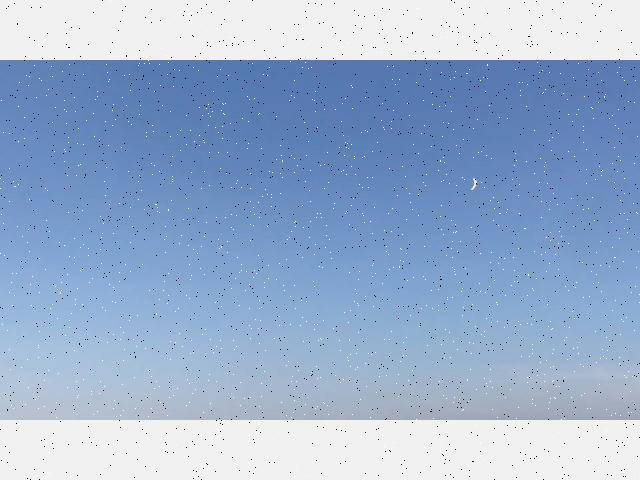Anti-Drone: (464, 175, 486, 191)
